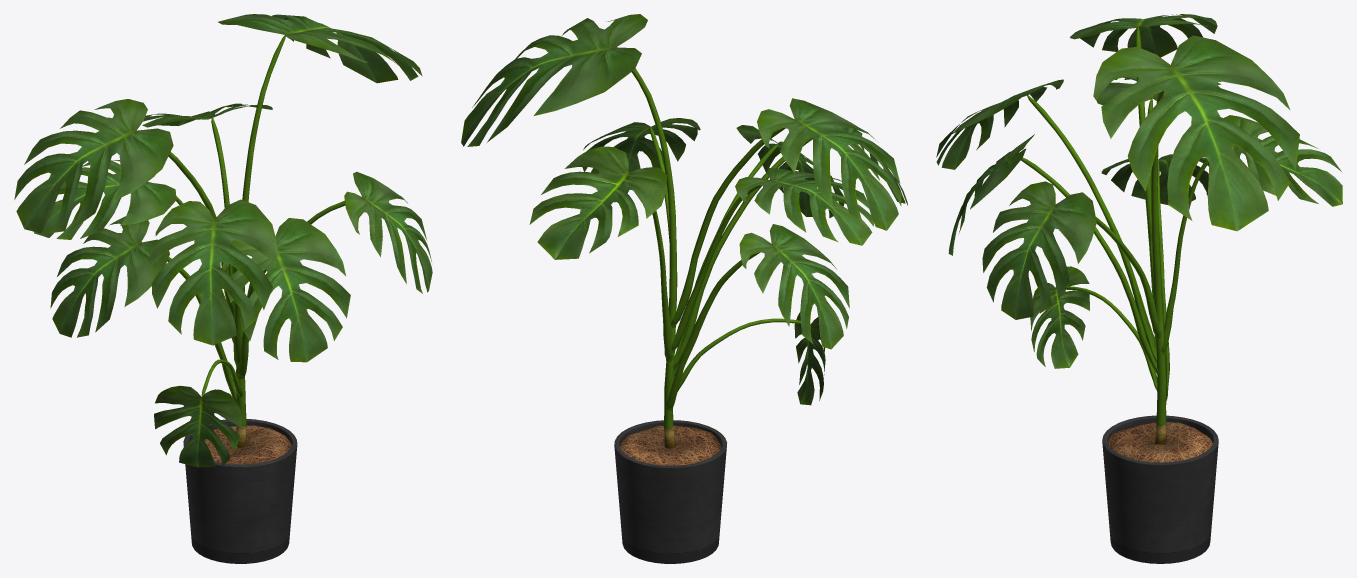
The model's file is BP_RoomPlantsSet01_MonsuteraB.fbx.
The picture shows the model from 3 angles, left to right: view 1: azimuth 30°, elevation 25°; view 2: azimuth 150°, elevation 25°; view 3: azimuth 270°, elevation 25°; orthographic projection. The views are drawn at different scales.
Visible parts, largest first — view 1: Ha, Ha_ura, Hachi, Kuki, Kokofiber; view 2: Ha, Ha_ura, Hachi, Kuki, Kokofiber; view 3: Ha, Ha_ura, Hachi, Kuki, Kokofiber.
Boxes of the visible parts, box(x1,y1,x2,y2) form: Ha: box(14, 14, 432, 467); Ha_ura: box(15, 14, 432, 466); Hachi: box(183, 419, 297, 563); Kuki: box(141, 35, 362, 447); Kokofiber: box(204, 425, 291, 464); Ha: box(461, 14, 907, 405); Ha_ura: box(461, 14, 907, 404); Hachi: box(614, 420, 726, 563); Kuki: box(628, 68, 812, 448); Kokofiber: box(619, 425, 721, 465); Ha: box(936, 14, 1342, 368); Ha_ura: box(937, 14, 1342, 368); Hachi: box(1102, 415, 1218, 563); Kuki: box(1021, 27, 1209, 444); Kokofiber: box(1107, 421, 1212, 462).
Size of the model in its own units: 83.21 by 99.74 by 71.27.
